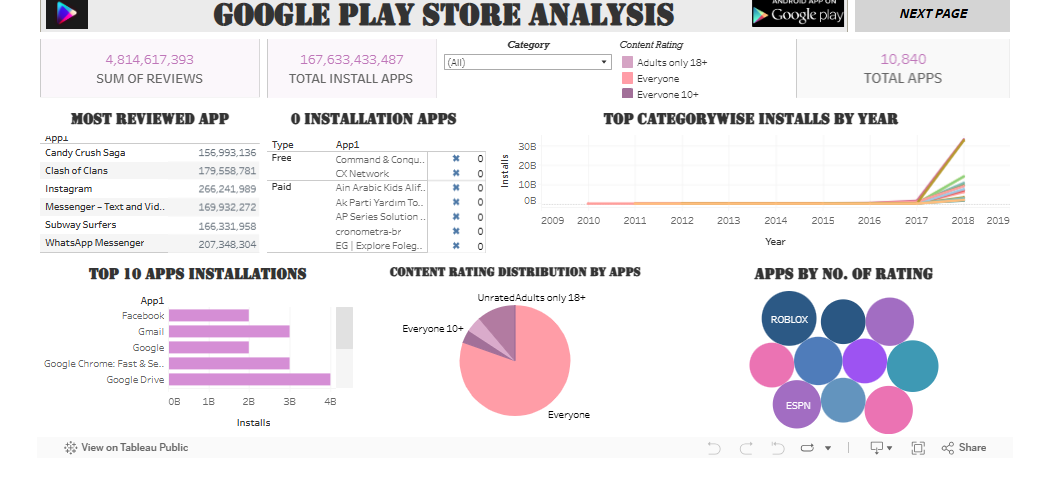

Layout of this report page (visuals, bound fields, positions):
{"tool":"tableau","page":{"name":"Dashboard 1","canvas":[1000,1000],"units":"permille","ordinal":0},"visuals":[{"type":"worksheet","title":"Title","mark":"Automatic","box":[0,0,835.2,103.6]},{"type":"dashboard-object","box":[835.2,0,164.8,103.6]},{"type":"image","param":"Image/playstore9.png","box":[723,14.3,113.9,71.4]},{"type":"image","param":"Image/image 2.jpg","box":[9,17.9,60.7,71.4]},{"type":"worksheet","title":"Total review","mark":"Automatic","box":[0,103.6,232.1,146.4]},{"type":"worksheet","title":"Total  app install","mark":"Automatic","box":[232.1,103.6,180.6,146.4]},{"type":"filter","title":"TOP CATEGORYWISE INSTALLS","param":"[federated.1fkzn2g1wzkme212ahe421t91n51].[none:Category:nk]","box":[412.8,103.6,180.7,146.4]},{"type":"legend","title":"TOP 10 GENRES","param":"[federated.1fkzn2g1wzkme212ahe421t91n51].[none:Content Rating:nk]","box":[593.4,103.6,181.1,146.4]},{"type":"worksheet","title":"Total Apps","mark":"Automatic","box":[774.6,103.6,225.5,146.4]},{"type":"worksheet","title":"MOST REVIEWED APP","mark":"Automatic","rows":["App"],"box":[0,250,232,346]},{"type":"worksheet","title":"BOTTOM 10","mark":"Shape","rows":["Type","App"],"box":[232,250,231.2,346]},{"type":"worksheet","title":"TOP CATEGORYWISE INSTALLS","mark":"Automatic","rows":["Installs"],"cols":["year"],"box":[463.4,250,536.6,346.4]},{"type":"worksheet","title":"TOP 10","mark":"Automatic","rows":["App"],"cols":["Installs"],"box":[0,596.4,326.8,403.6]},{"type":"worksheet","title":"TOP 10 GENRES","mark":"Pie","box":[326.8,596.4,326.8,403.6]},{"type":"worksheet","title":"Apps by rating","mark":"Circle","box":[653.6,596.4,346.4,403.6]}]}

Visuals, with their boxes on the dashboard's canvas, which has no fixed pixel size, in thousandths of its width and height (x1, y1, x2, y2). These are canvas units, not pixel positions in the 1053x477 screenshot, which may show the page scaled, cropped or inside an application window:
"Title" worksheet: {"x1": 0, "y1": 0, "x2": 835, "y2": 104}
dashboard-object: {"x1": 835, "y1": 0, "x2": 1000, "y2": 104}
image: {"x1": 723, "y1": 14, "x2": 837, "y2": 86}
image: {"x1": 9, "y1": 18, "x2": 70, "y2": 89}
"Total review" worksheet: {"x1": 0, "y1": 104, "x2": 232, "y2": 250}
"Total  app install" worksheet: {"x1": 232, "y1": 104, "x2": 413, "y2": 250}
"TOP CATEGORYWISE INSTALLS" filter: {"x1": 413, "y1": 104, "x2": 594, "y2": 250}
"TOP 10 GENRES" legend: {"x1": 593, "y1": 104, "x2": 774, "y2": 250}
"Total Apps" worksheet: {"x1": 775, "y1": 104, "x2": 1000, "y2": 250}
"MOST REVIEWED APP" worksheet: {"x1": 0, "y1": 250, "x2": 232, "y2": 596}
"BOTTOM 10" worksheet (Shape marks): {"x1": 232, "y1": 250, "x2": 463, "y2": 596}
"TOP CATEGORYWISE INSTALLS" worksheet: {"x1": 463, "y1": 250, "x2": 1000, "y2": 596}
"TOP 10" worksheet: {"x1": 0, "y1": 596, "x2": 327, "y2": 1000}
"TOP 10 GENRES" worksheet (Pie marks): {"x1": 327, "y1": 596, "x2": 654, "y2": 1000}
"Apps by rating" worksheet (Circle marks): {"x1": 654, "y1": 596, "x2": 1000, "y2": 1000}
